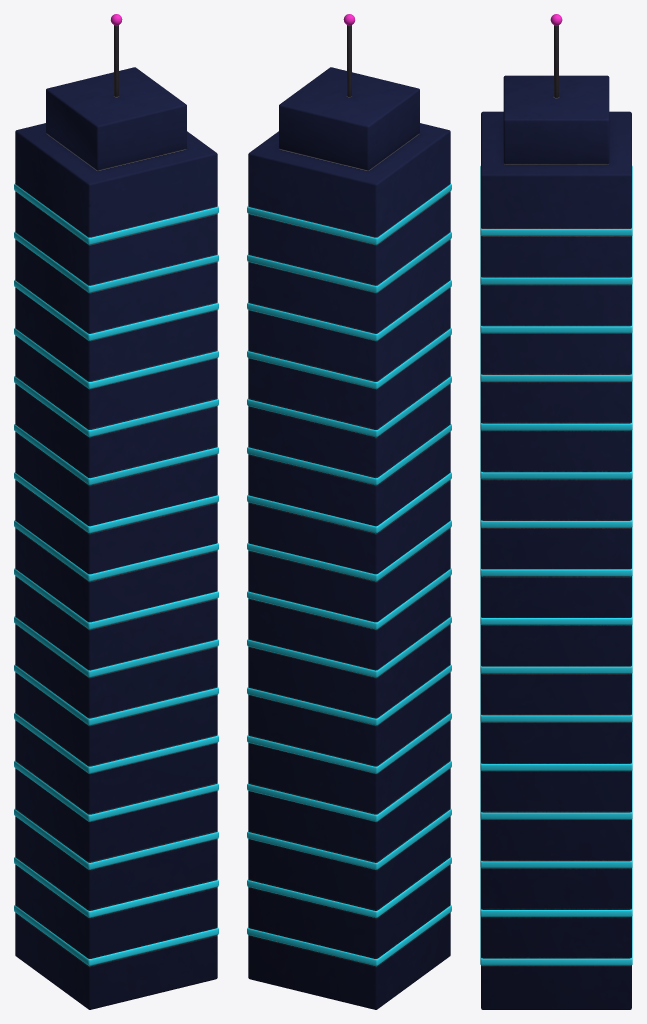
Rendered from rn_skyscraper_cyan.fbx.
3 views of the same model, side by side, from view 1: azimuth 30°, elevation 25°; view 2: azimuth 150°, elevation 25°; view 3: azimuth 270°, elevation 25° (orthographic).
Visible parts, largest first — view 1: rn_skyscraper_cyan; view 2: rn_skyscraper_cyan; view 3: rn_skyscraper_cyan.
Part boxes in pixels (x1,y1,x2,y2): rn_skyscraper_cyan: [14, 14, 218, 1009]; rn_skyscraper_cyan: [247, 14, 451, 1009]; rn_skyscraper_cyan: [480, 14, 632, 1009].
Bounding box in the file's own units: 9.1 × 63.45 × 9.1.
Materials: 4 (4 with a texture image).
